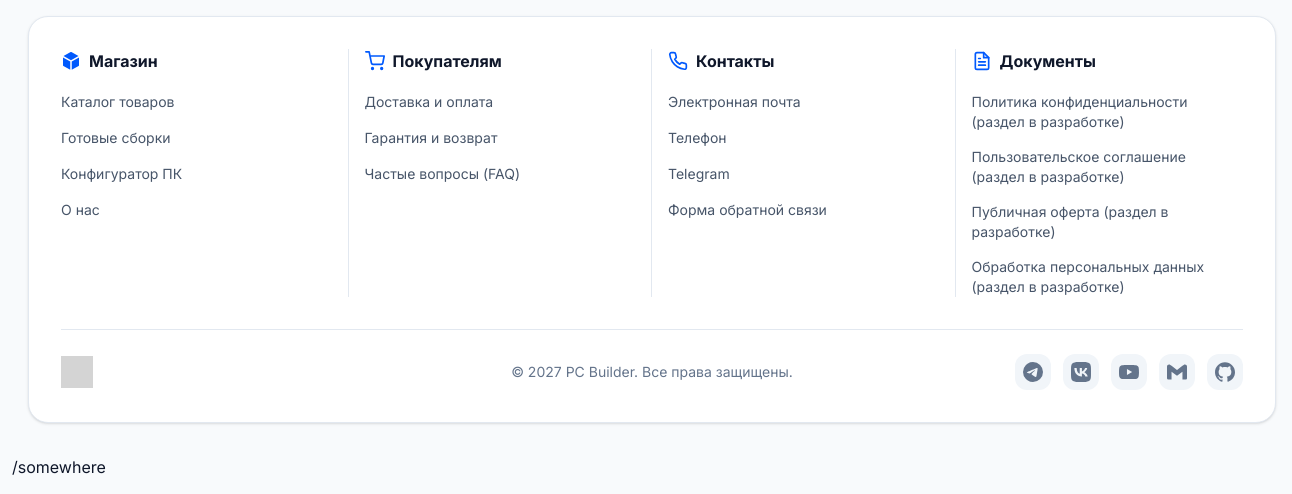
Test case: Footer component › navigates with the functional Shop links
Click the link "Конфигуратор ПК" at (122, 174), box [61, 165, 182, 182]
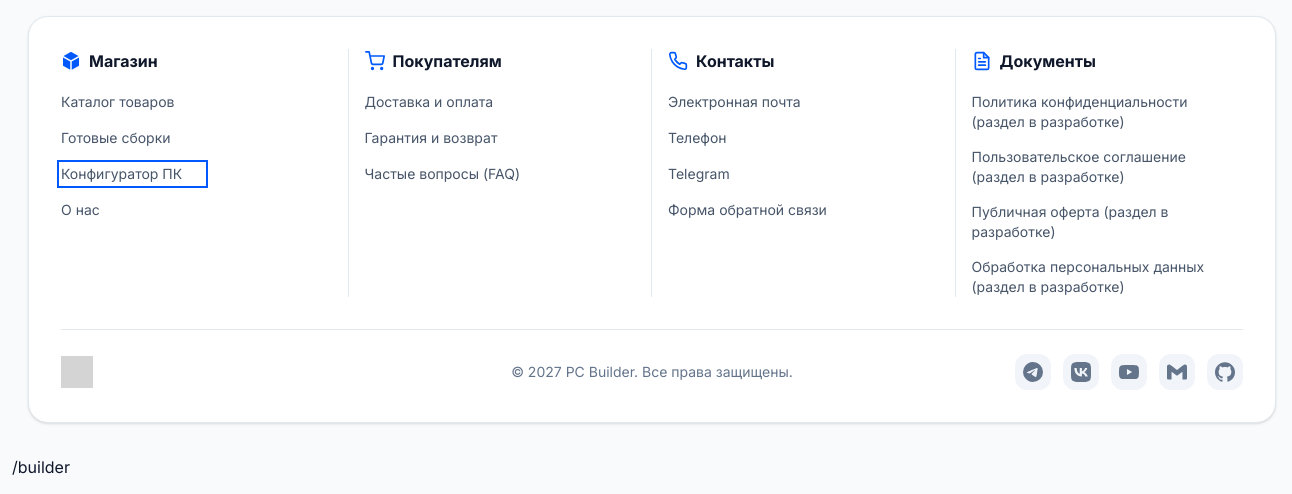
Check: the text with test id "location" reads "/builder", box [12, 457, 70, 477]
